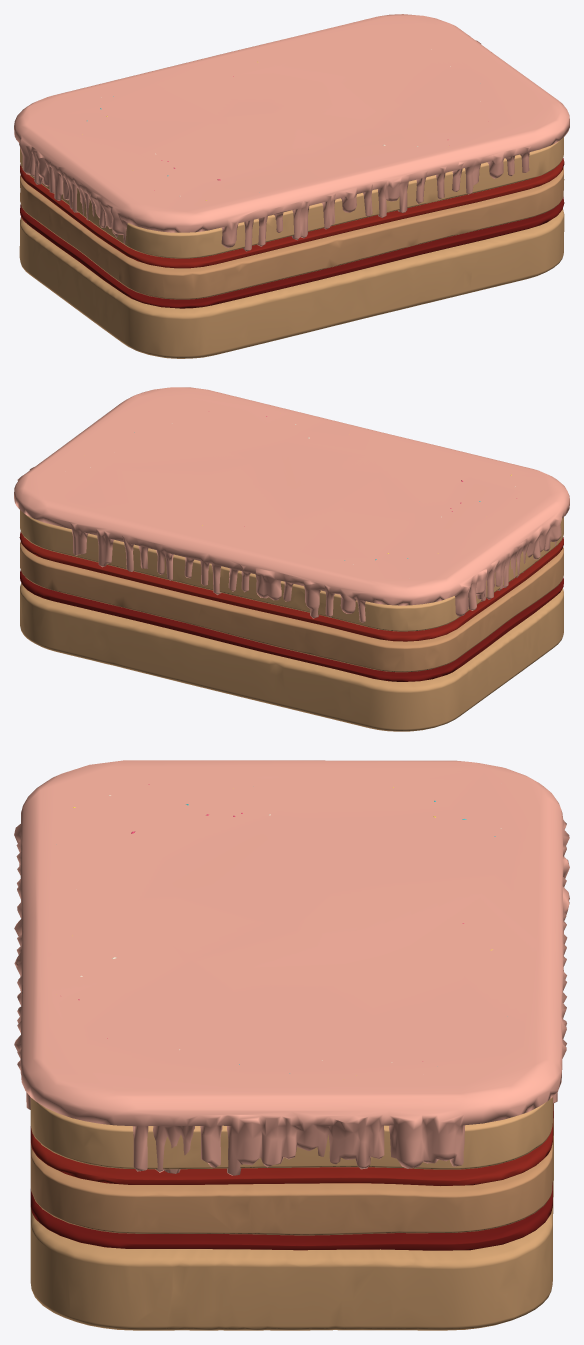
Rendered from cake-mesa-worn.glb.
3 renders of one model, top to bottom at view 1: azimuth 30°, elevation 25°; view 2: azimuth 150°, elevation 25°; view 3: azimuth 270°, elevation 25°, orthographic. The views are drawn at different scales.
Visible parts, largest first — view 1: Rounded poured strawberry frosting.002, Golden sponge bottom.002, Golden sponge lower.002, Golden sponge upper.002, Raspberry jam deep.002, Raspberry jam ribbon.002; view 2: Rounded poured strawberry frosting.002, Golden sponge bottom.002, Golden sponge lower.002, Golden sponge upper.002, Raspberry jam deep.002, Raspberry jam ribbon.002; view 3: Rounded poured strawberry frosting.002, Golden sponge bottom.002, Golden sponge lower.002, Golden sponge upper.002, Raspberry jam deep.002, Raspberry jam ribbon.002.
Part boxes in pixels (box(x1,y1,x2,y2)): Rounded poured strawberry frosting.002: box(14, 14, 569, 251); Golden sponge bottom.002: box(19, 209, 564, 358); Golden sponge lower.002: box(20, 167, 564, 299); Golden sponge upper.002: box(20, 137, 563, 258); Raspberry jam deep.002: box(20, 197, 564, 308); Raspberry jam ribbon.002: box(20, 158, 564, 268); Rounded poured strawberry frosting.002: box(14, 387, 569, 622); Golden sponge bottom.002: box(20, 583, 563, 731); Golden sponge lower.002: box(20, 541, 563, 672); Golden sponge upper.002: box(20, 510, 563, 631); Raspberry jam deep.002: box(20, 570, 563, 681); Raspberry jam ribbon.002: box(19, 531, 563, 641); Rounded poured strawberry frosting.002: box(14, 760, 569, 1175); Golden sponge bottom.002: box(30, 1103, 553, 1330); Golden sponge lower.002: box(30, 1104, 553, 1235); Golden sponge upper.002: box(30, 1097, 552, 1169); Raspberry jam deep.002: box(30, 1104, 553, 1250); Raspberry jam ribbon.002: box(30, 1123, 552, 1185).
Bounding box in the file's own units: 13.16 × 4.2 × 8.7.
